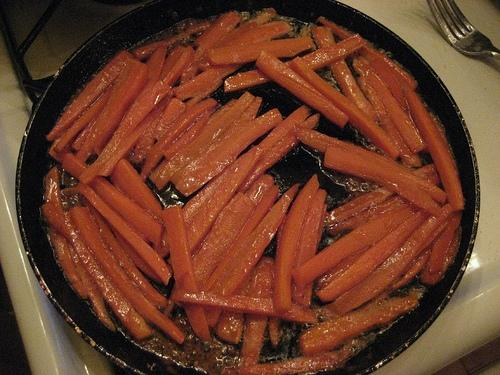carrot: (316, 204, 454, 320), (69, 206, 185, 344), (41, 202, 155, 340), (203, 183, 300, 328), (290, 56, 401, 161), (292, 202, 421, 290), (148, 91, 255, 191), (316, 211, 431, 304), (76, 182, 172, 286), (61, 153, 165, 247), (176, 108, 284, 197), (78, 82, 170, 184), (46, 50, 140, 142), (224, 34, 368, 94), (198, 186, 278, 294), (187, 146, 264, 257), (324, 148, 443, 218), (171, 97, 262, 186), (324, 172, 444, 238), (90, 206, 167, 308), (75, 59, 150, 163), (255, 49, 350, 129), (299, 296, 420, 358), (324, 163, 438, 227), (406, 90, 464, 212), (97, 87, 176, 176), (236, 112, 320, 195), (353, 58, 426, 153), (162, 206, 213, 340), (139, 98, 218, 183), (191, 191, 257, 290), (312, 26, 379, 122), (45, 167, 90, 299), (296, 124, 416, 172), (358, 75, 421, 166), (182, 148, 252, 229), (170, 288, 320, 324), (194, 20, 290, 71), (98, 212, 163, 284), (291, 189, 327, 307), (68, 242, 115, 331), (54, 85, 114, 153), (238, 256, 274, 369), (110, 159, 167, 230), (182, 11, 240, 80), (88, 183, 150, 245), (121, 46, 167, 122), (216, 264, 258, 344), (208, 35, 314, 65), (312, 244, 374, 294), (235, 350, 346, 375), (133, 22, 210, 58), (162, 110, 216, 161), (358, 45, 417, 91), (172, 64, 243, 102), (420, 224, 462, 288), (214, 8, 277, 46), (369, 59, 410, 112), (153, 98, 188, 141), (163, 46, 194, 87), (184, 78, 223, 110), (243, 173, 275, 207), (158, 44, 186, 81), (269, 316, 280, 348)
